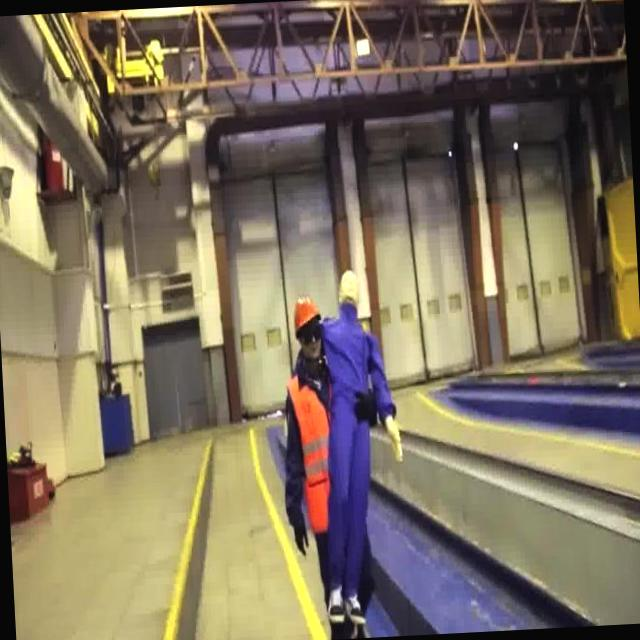vest: (285, 372, 336, 534)
